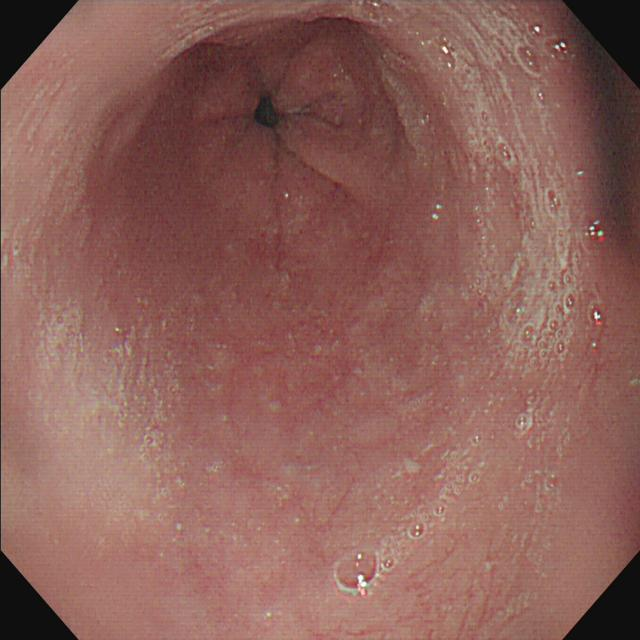E: (254, 96, 281, 129)
I: (194, 37, 378, 236)
T: (469, 26, 581, 363), (333, 436, 483, 596)
